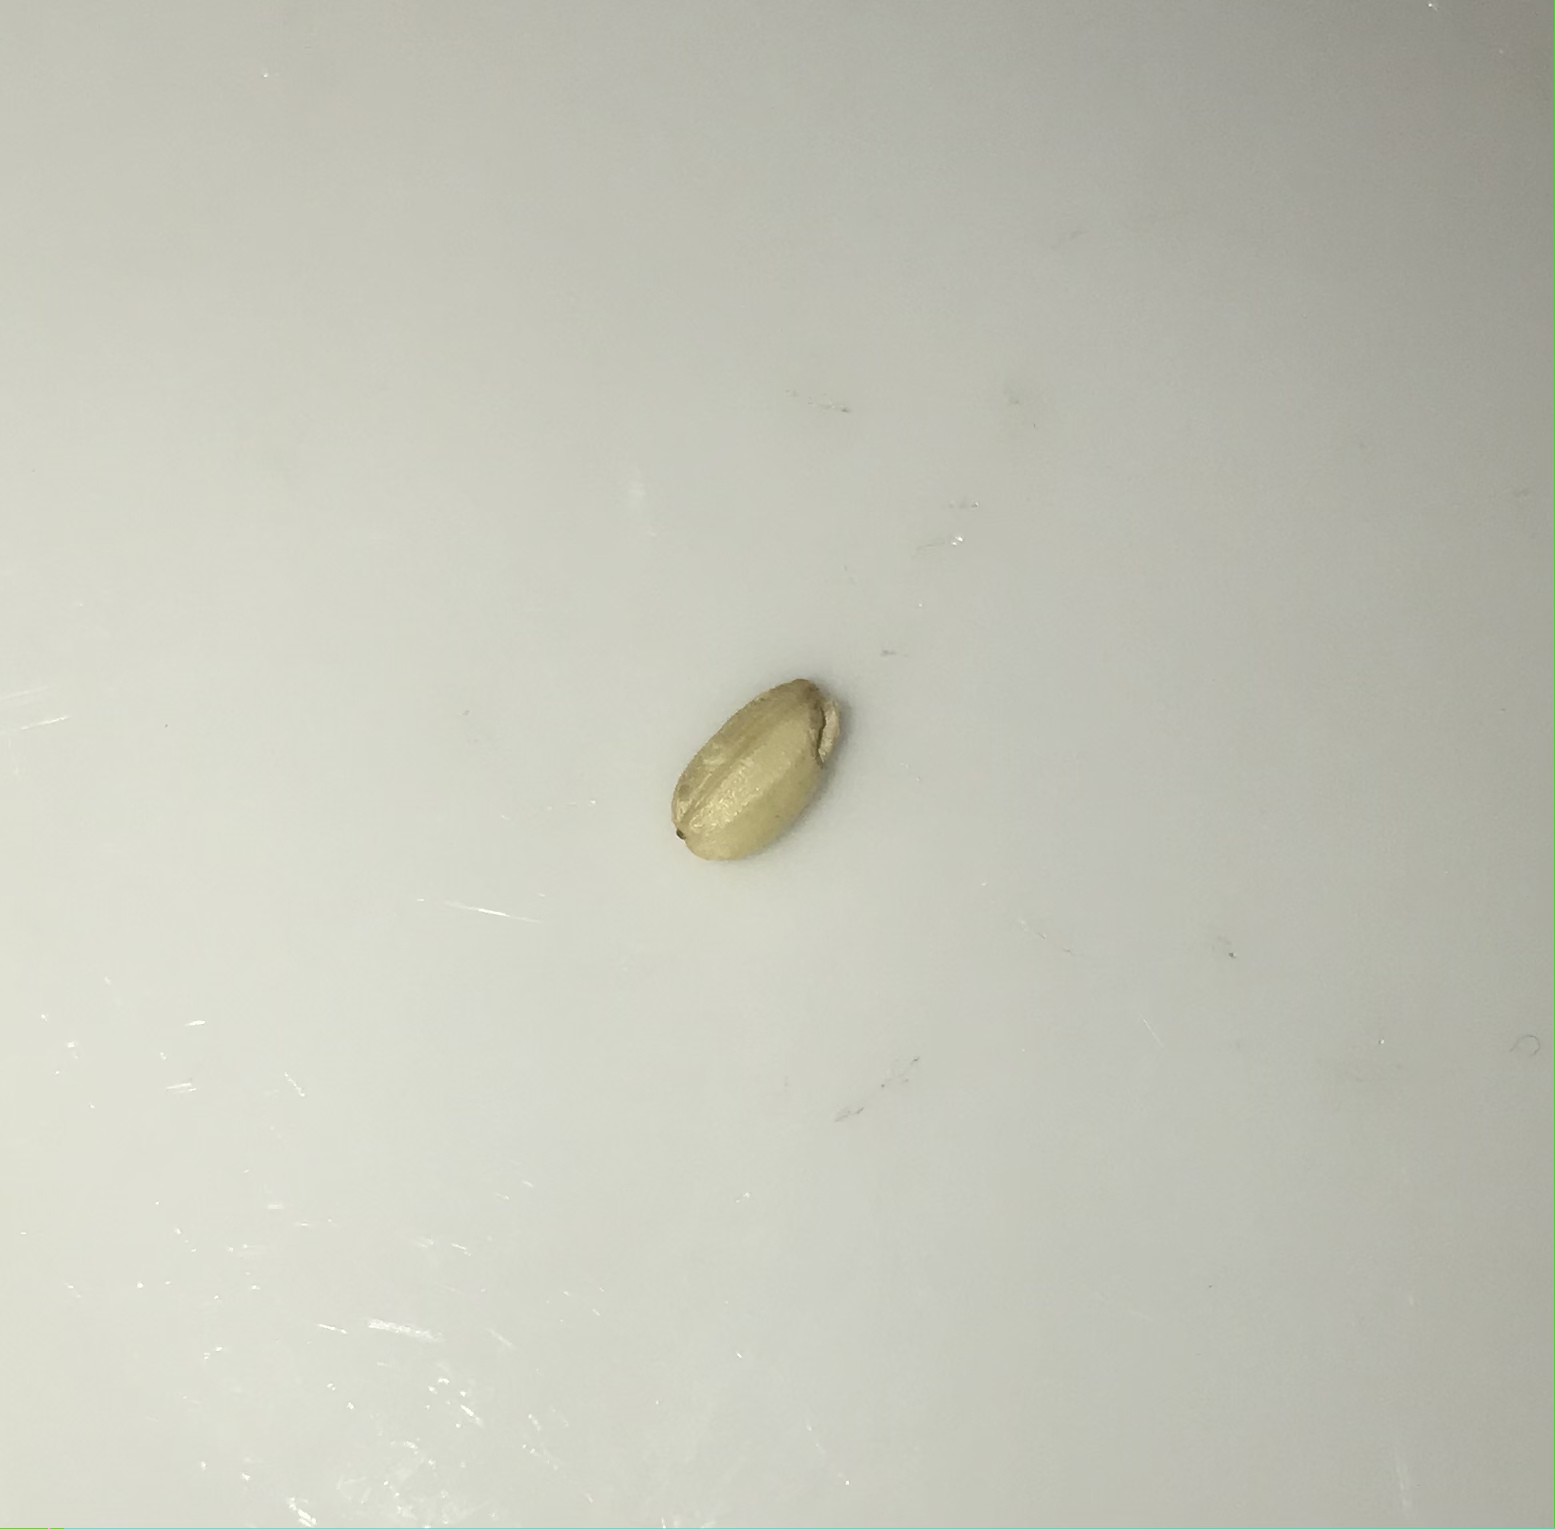Gao Lut Bac: (665, 666, 865, 892)
